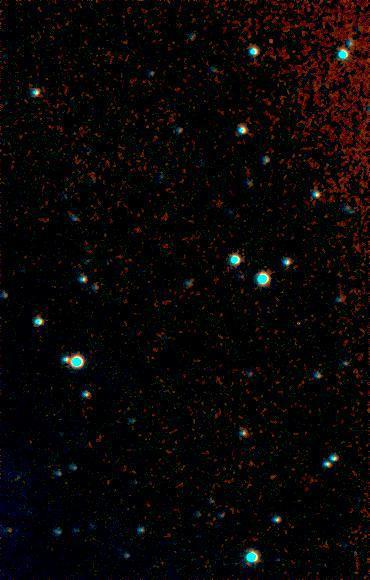star: (260, 462, 290, 492)
